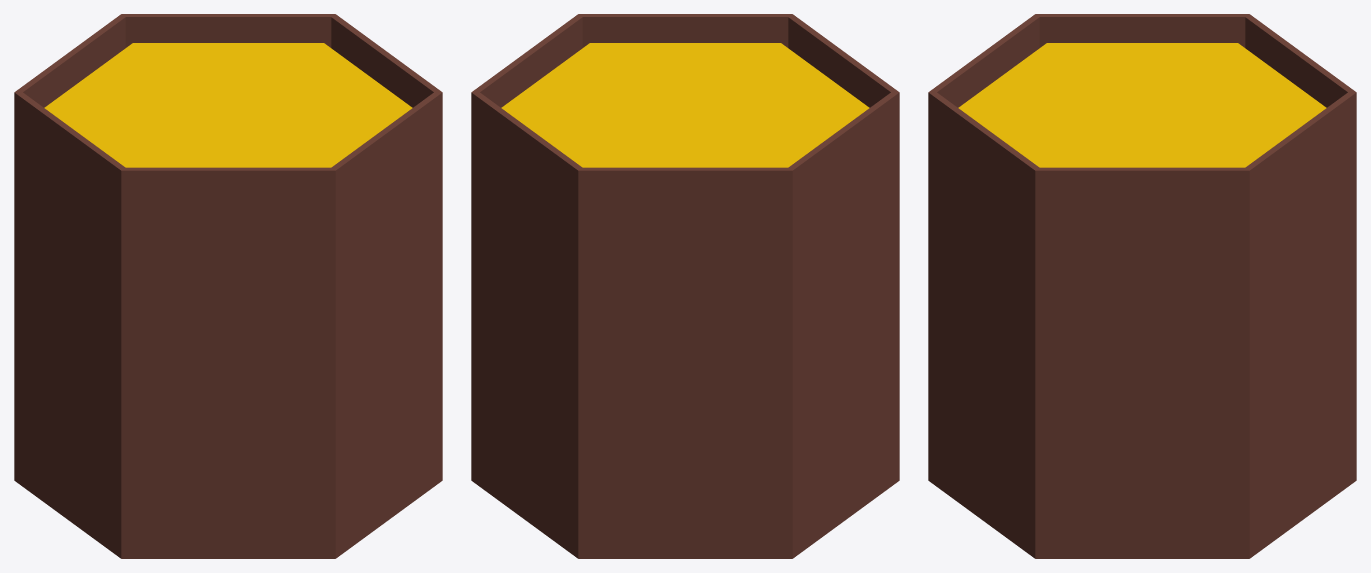
The model's file is BeeKovan.fbx.
The picture shows the model from 3 angles, left to right: view 1: azimuth 30°, elevation 25°; view 2: azimuth 150°, elevation 25°; view 3: azimuth 270°, elevation 25°; orthographic projection.
Visible parts, largest first — view 1: Cylinder.003, Cylinder.004; view 2: Cylinder.003, Cylinder.004; view 3: Cylinder.003, Cylinder.004.
Part boxes in pixels (x1,y1,x2,y2): Cylinder.003: [14, 14, 442, 558]; Cylinder.004: [44, 43, 412, 167]; Cylinder.003: [471, 14, 899, 558]; Cylinder.004: [501, 43, 869, 167]; Cylinder.003: [928, 14, 1356, 558]; Cylinder.004: [958, 43, 1326, 167].
Size of the model in its own units: 173 by 200 by 200.
